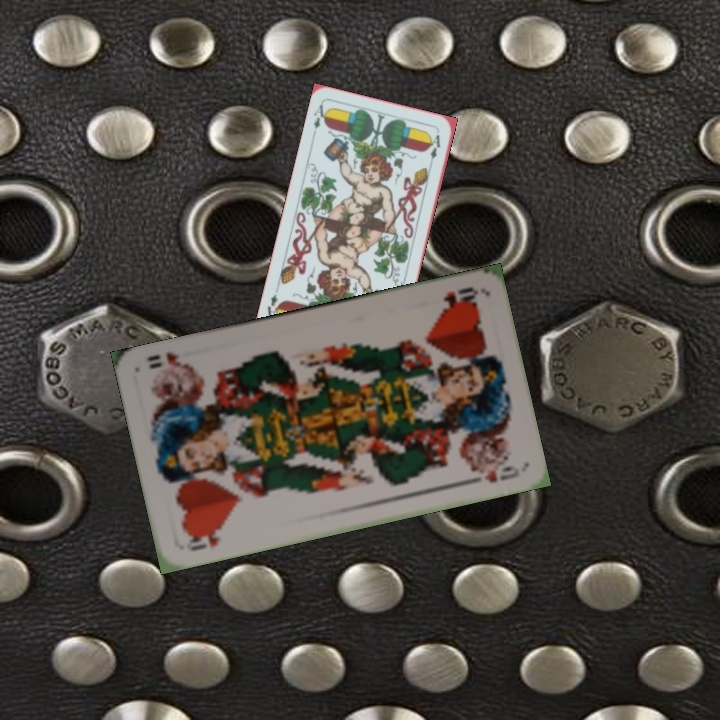EA: (309, 100, 331, 140)
HO: (437, 282, 481, 311), (183, 524, 225, 554)
